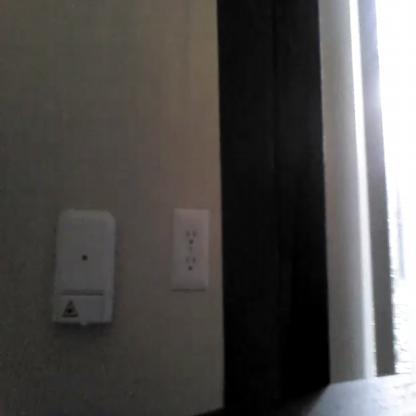OUTLET: (172, 208, 209, 290)
